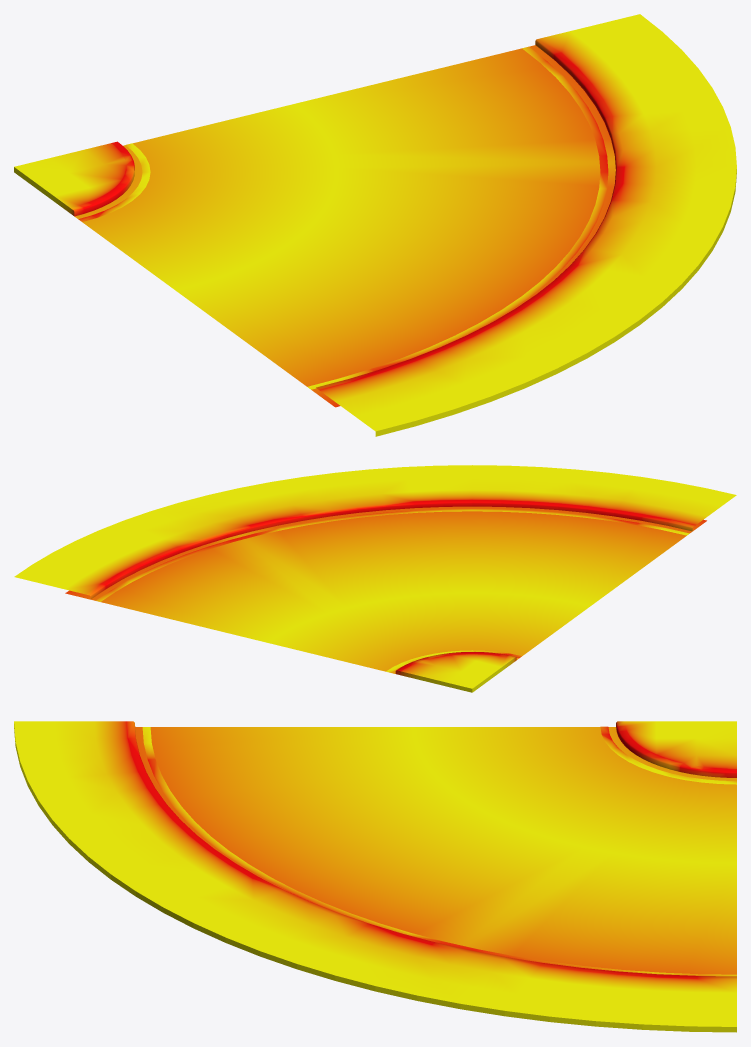
The model's file is street-curve-4laneshort.glb.
3 renders of one model, top to bottom at view 1: azimuth 30°, elevation 25°; view 2: azimuth 150°, elevation 25°; view 3: azimuth 270°, elevation 25°, orthographic. The views are drawn at different scales.
Visible parts, largest first — view 1: Street_Curve_4LaneShort; view 2: Street_Curve_4LaneShort; view 3: Street_Curve_4LaneShort.
Boxes of the visible parts, box(x1,y1,x2,y2) form: Street_Curve_4LaneShort: box(14, 14, 736, 436); Street_Curve_4LaneShort: box(14, 465, 736, 692); Street_Curve_4LaneShort: box(14, 721, 736, 1032).
Size of the model in its own units: 18 by 0.15 by 18.
Materials: 3 (3 with a texture image).
